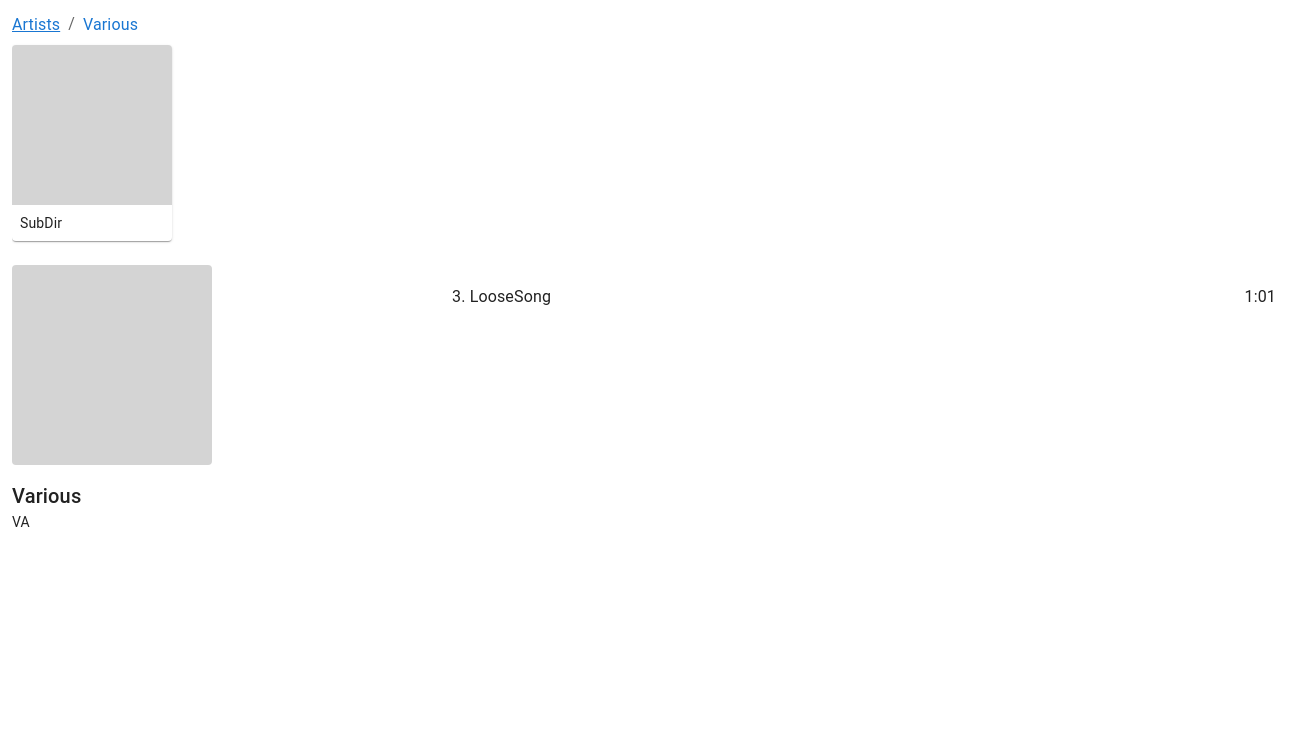
Test: JukeboxFileBrowser › shows sub-dirs as navigable cards above songs in a mixed dir
Expected: the text "3. LooseSong" is shown, 452,287 -> 551,306
Expected: the text "1:01" is shown, 1244,285 -> 1276,309
Step 1. Click the button "SubDir" → (92, 143), box 12,45 -> 172,241
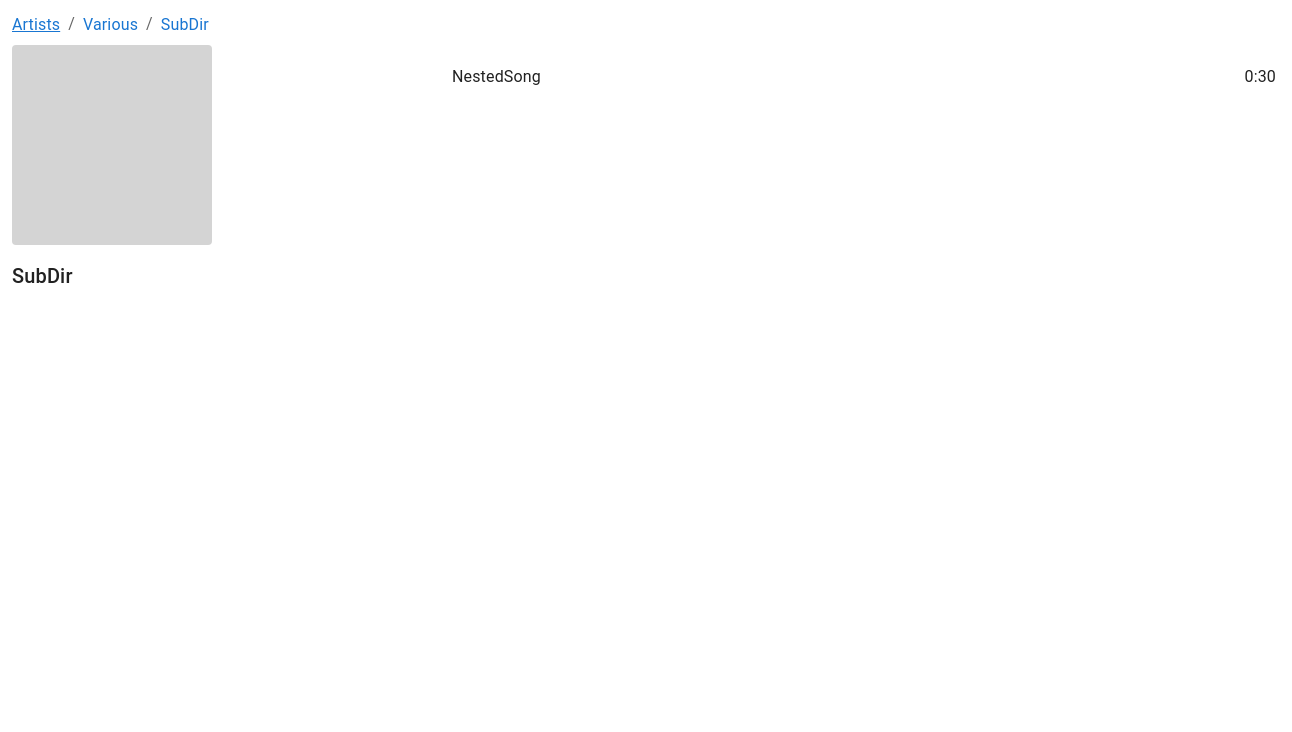
Expected: the text "NestedSong" is shown, 452,67 -> 541,86
Expected: the button "LooseSong" is gone
